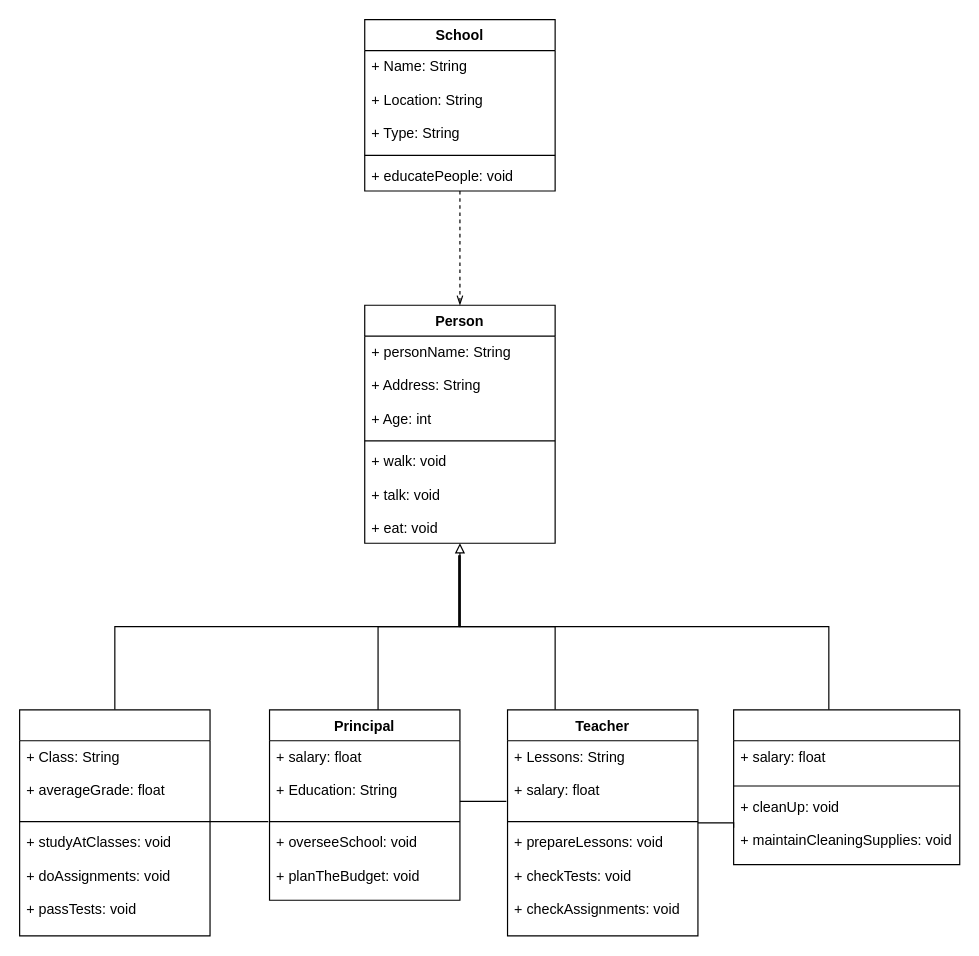
Some shapes in this 979 by 956 pixel diagram are drawn without their labels. Here are the shapes that lost their labels. From the top down, the box of each, then its label:
(732, 709, 960, 865): Janitor
(18, 709, 210, 936): Student
